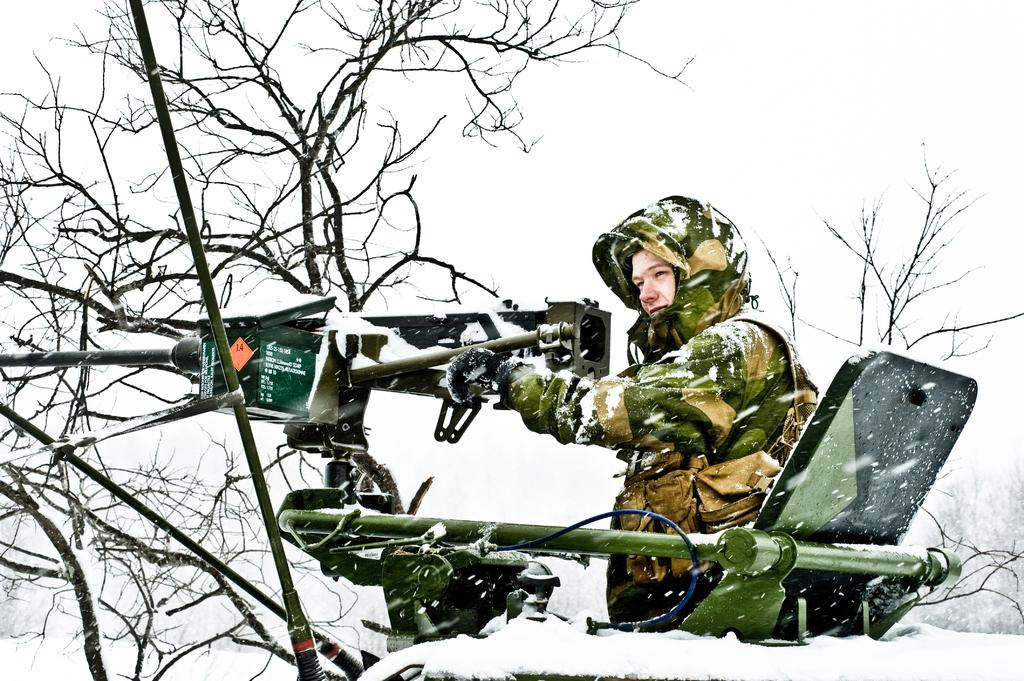non-violence: (472, 192, 825, 629)
weapon: (1, 284, 619, 445)
